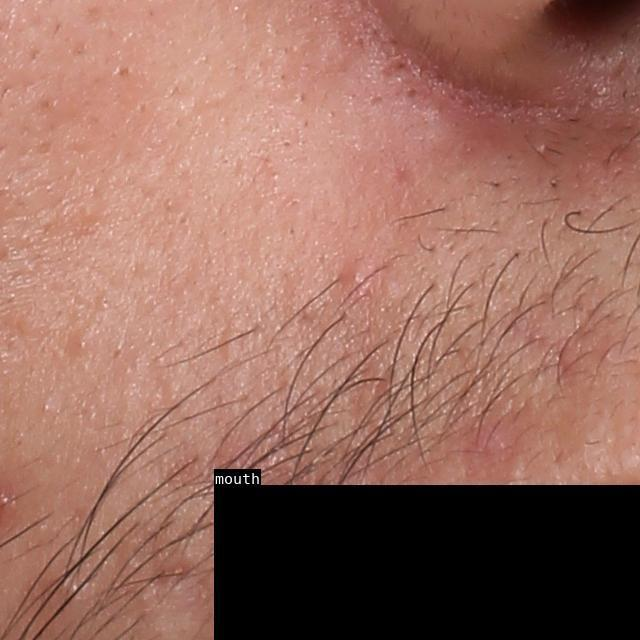comedo: (70, 334, 91, 356)
papule: (341, 262, 373, 290)
